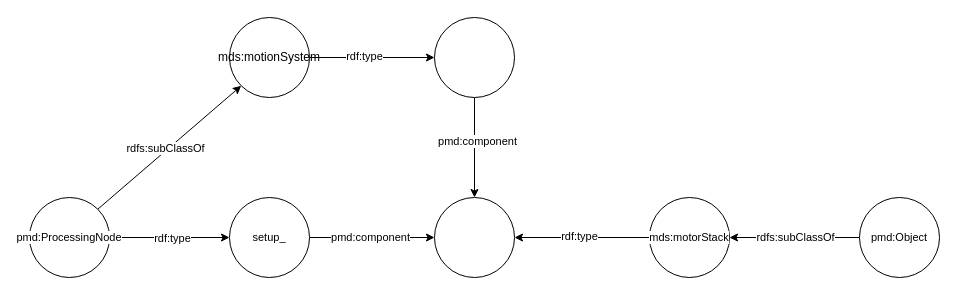
Image size: 957x295. Some labels were removed from this diagram. Each missing label, with the centre of its shape:
"motion_system_" goes at (x=474, y=57).
"stack_" goes at (x=474, y=237).
